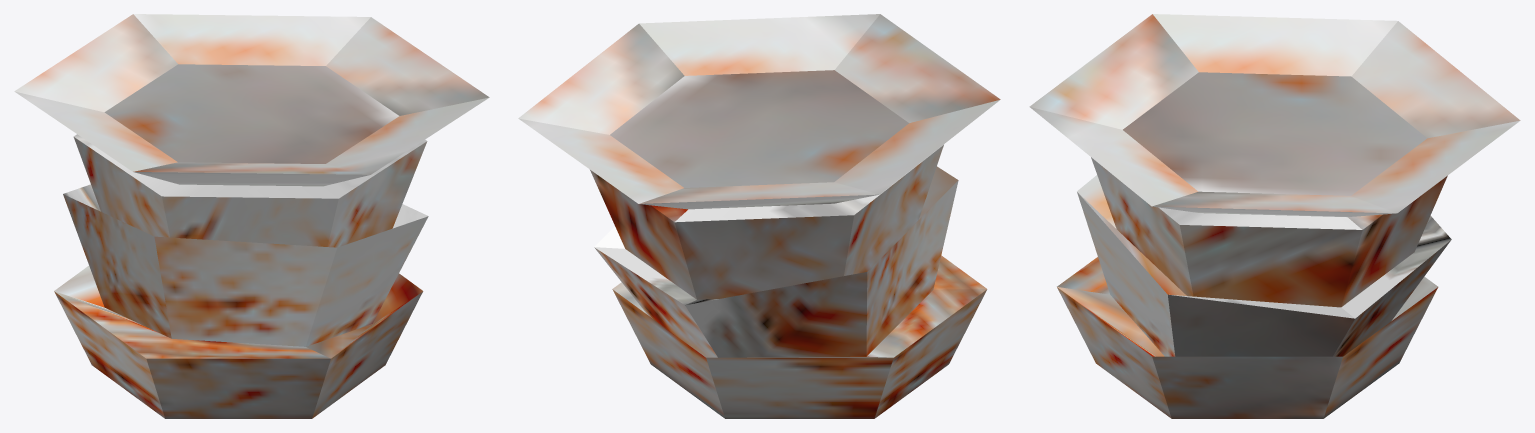
File: Dishes.fbx
3 views of the same model, side by side, from view 1: azimuth 30°, elevation 25°; view 2: azimuth 150°, elevation 25°; view 3: azimuth 270°, elevation 25° (orthographic). The views are drawn at different scales.
Visible parts, largest first — view 1: Plates; view 2: Plates; view 3: Plates.
Part boxes in pixels (<box>): Plates: <box>14,14,489,418</box>; Plates: <box>518,14,1000,418</box>; Plates: <box>1029,14,1520,418</box>.
Size of the model in its own units: 82.19 by 58.14 by 94.88.
